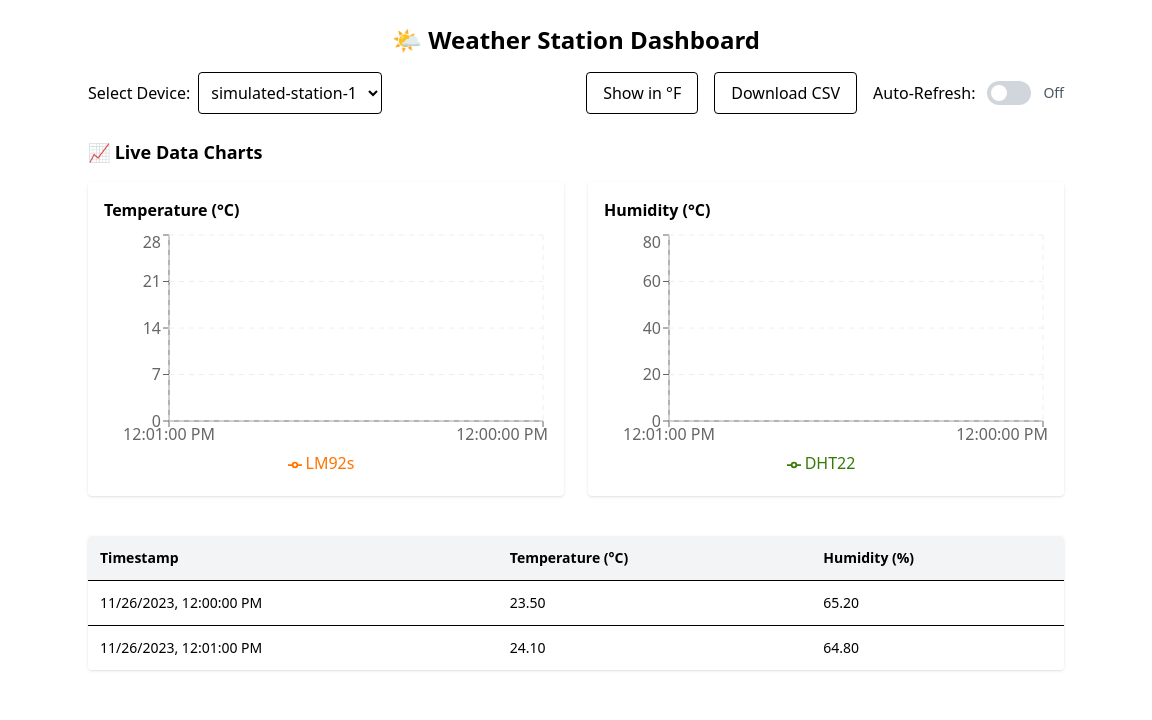
Test: Weather Dashboard Integration Tests › temperature unit conversion affects display
Check: the heading "📈 Live Data Charts" is shown, box [88,140,263,164]
Click to switch to Fahrenheit
Click the button "Show in °F".
click(642, 93)  # box [586,72,698,114]
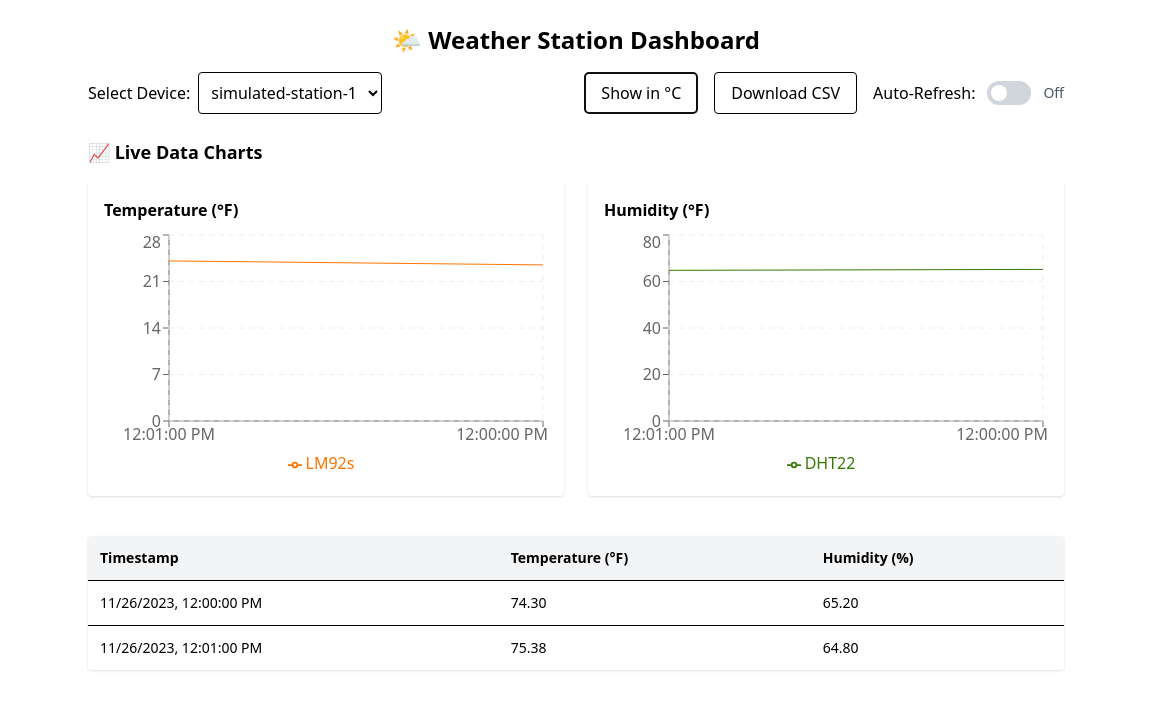
Check: the button "Show in °C" is shown, box [584,72,698,114]
Check: the button "Show in °F" is gone
